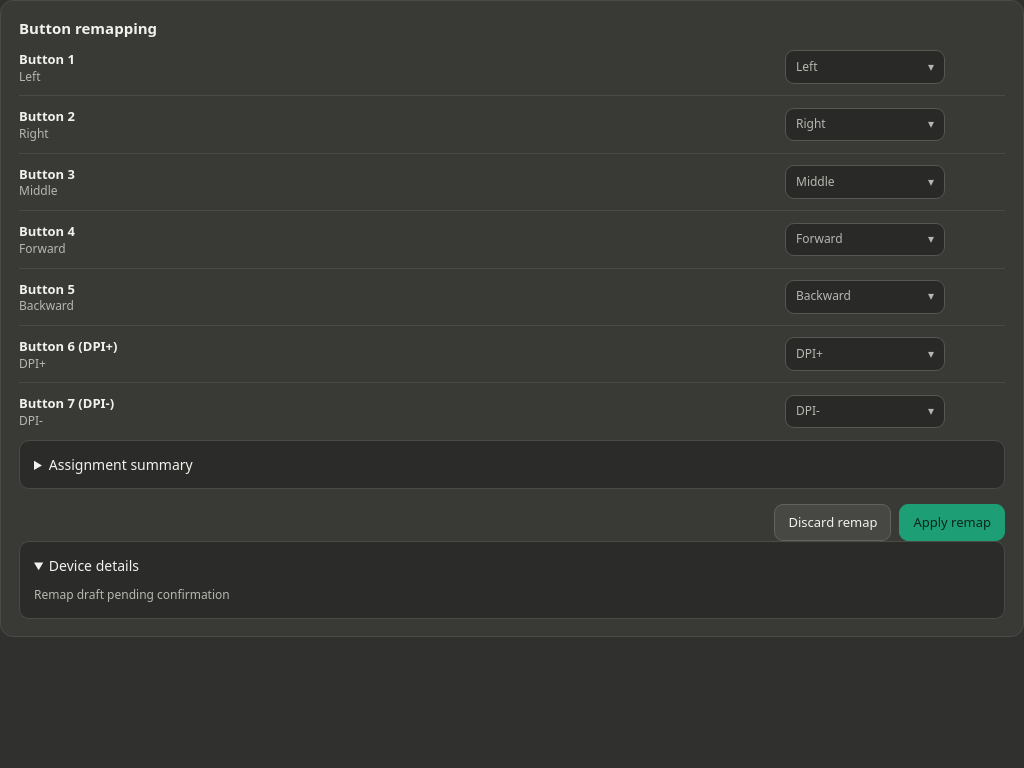
ButtonRemapPanel › opens a direct Macro dialog and stages only on Confirm
Click the button with aria-label "Button 6 action" at x=865, y=354, box [785,337,945,371]
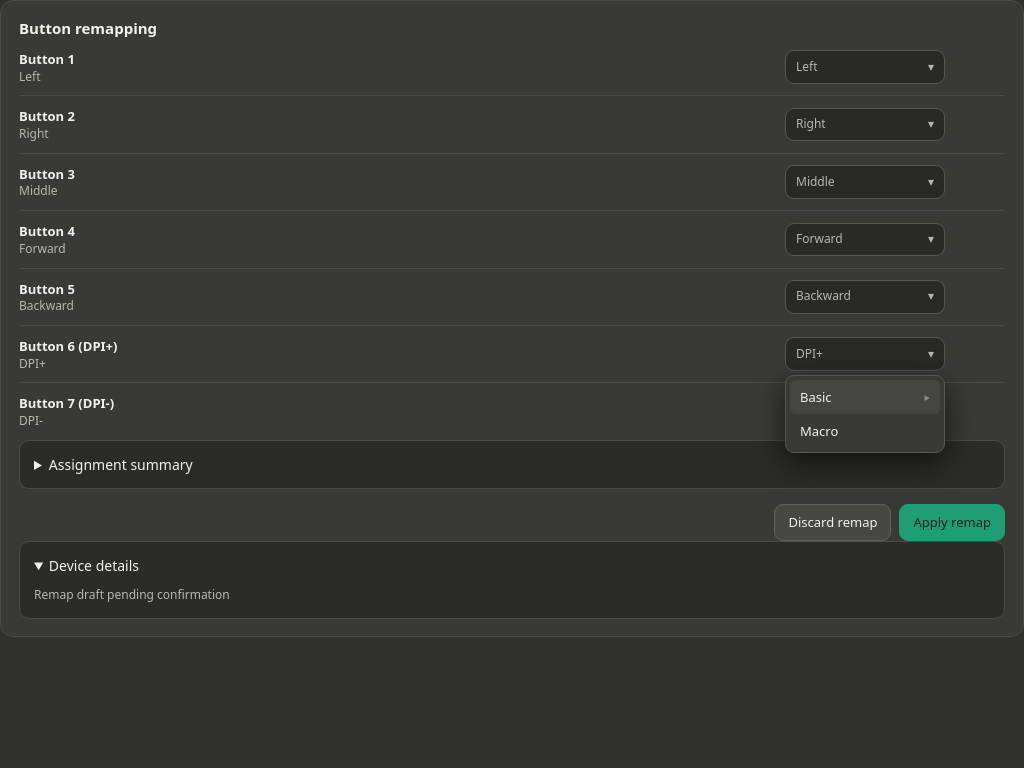
Click the menu item "Macro" at x=819, y=431, box [800,422,838,440]
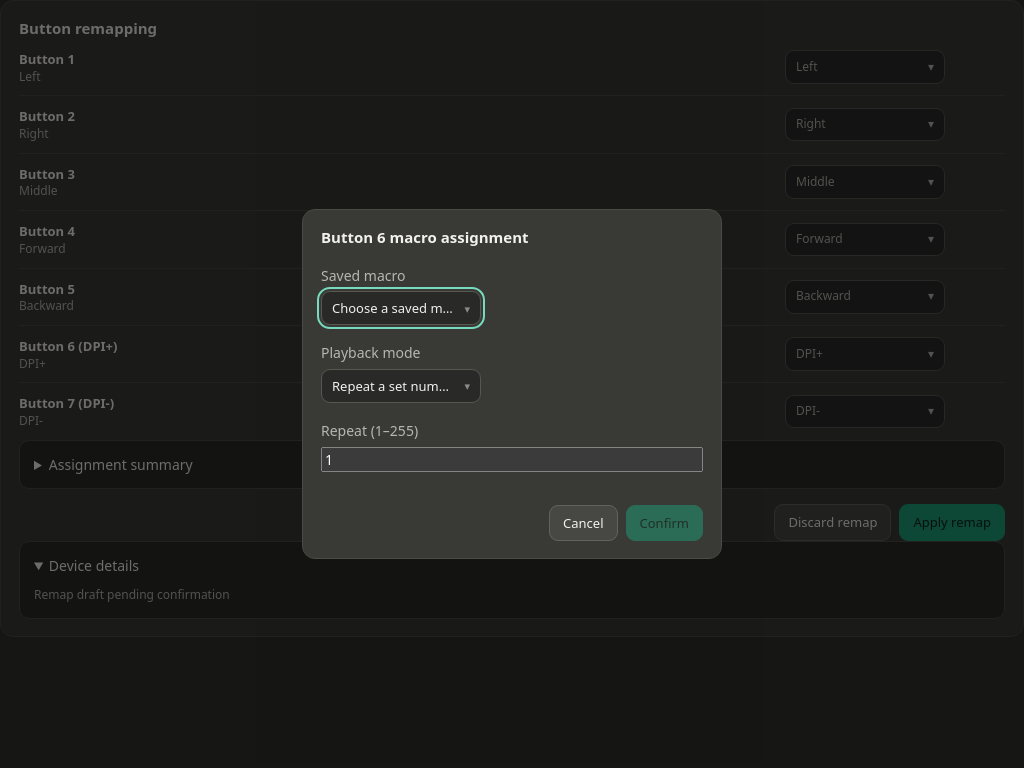
Click the button "Choose a saved macro ▾" at x=401, y=308, box [321,291,481,325]
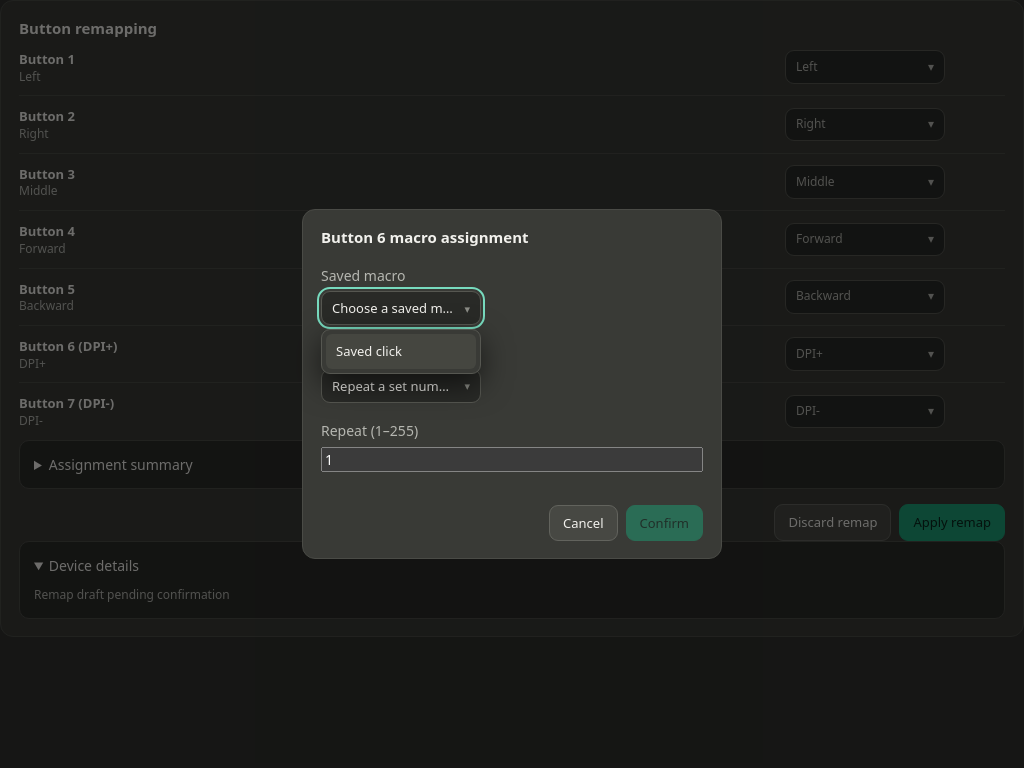
Click the menu item "Saved click" at x=401, y=351, box [326,334,476,368]
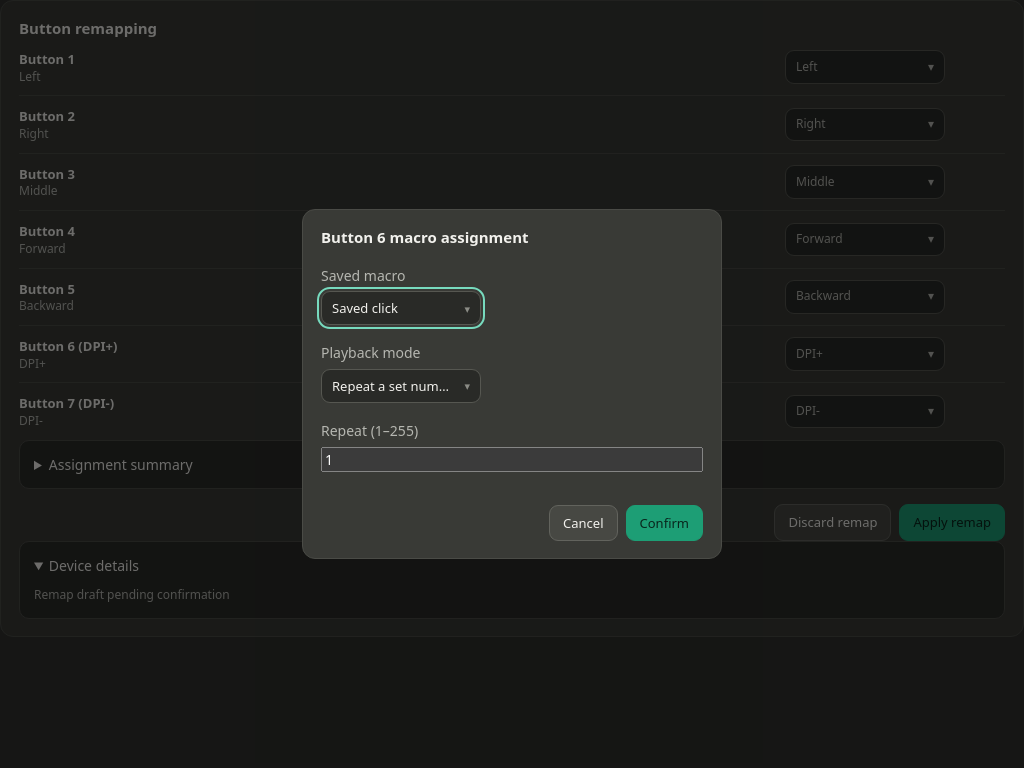
Replace the text in the number field labelled "Repeat (1–255)" with "255" at x=512, y=460, box [321,447,703,472]
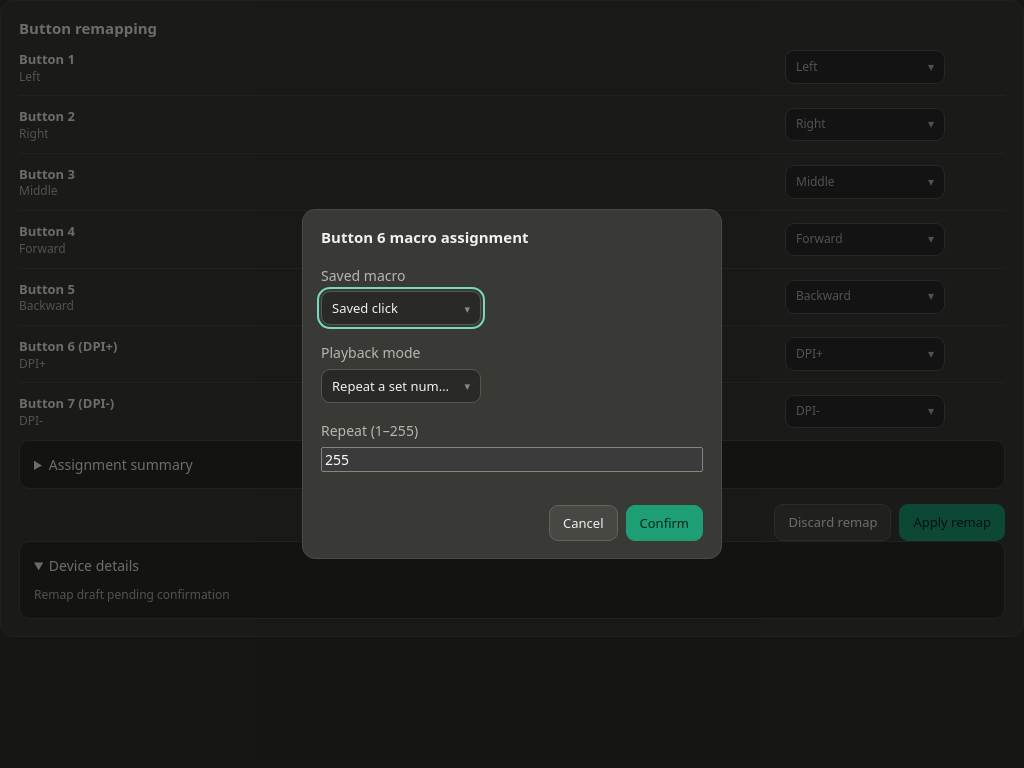
Click the button "Confirm" at x=664, y=523, box [626,505,703,542]
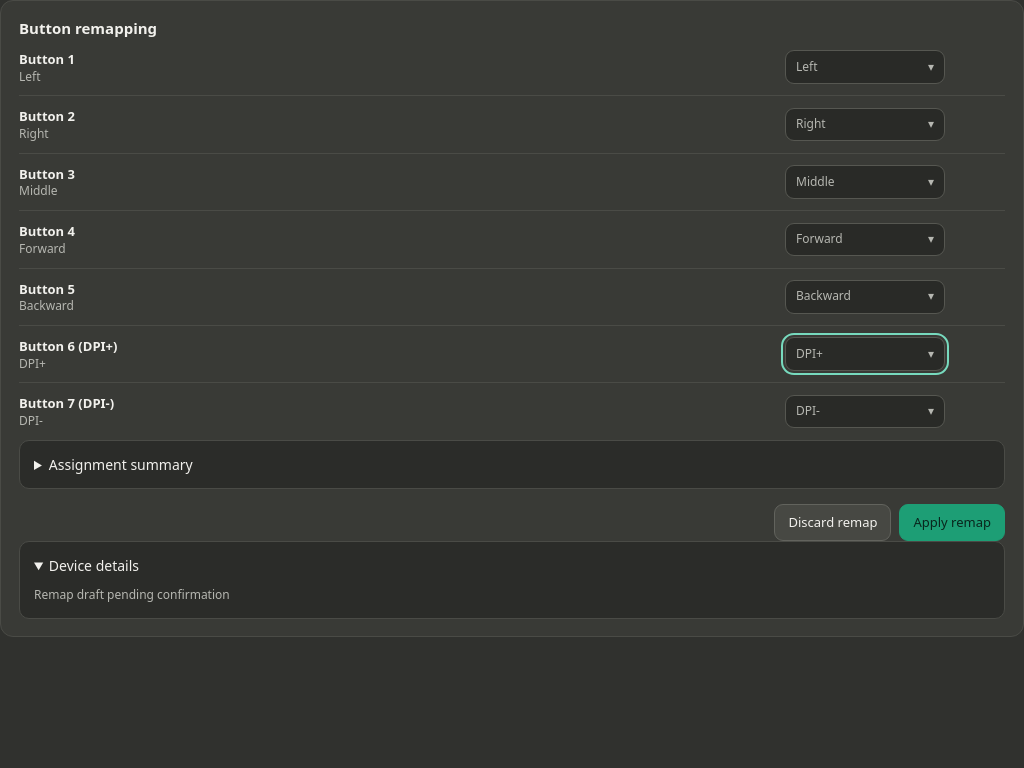
Now the dialog is gone
